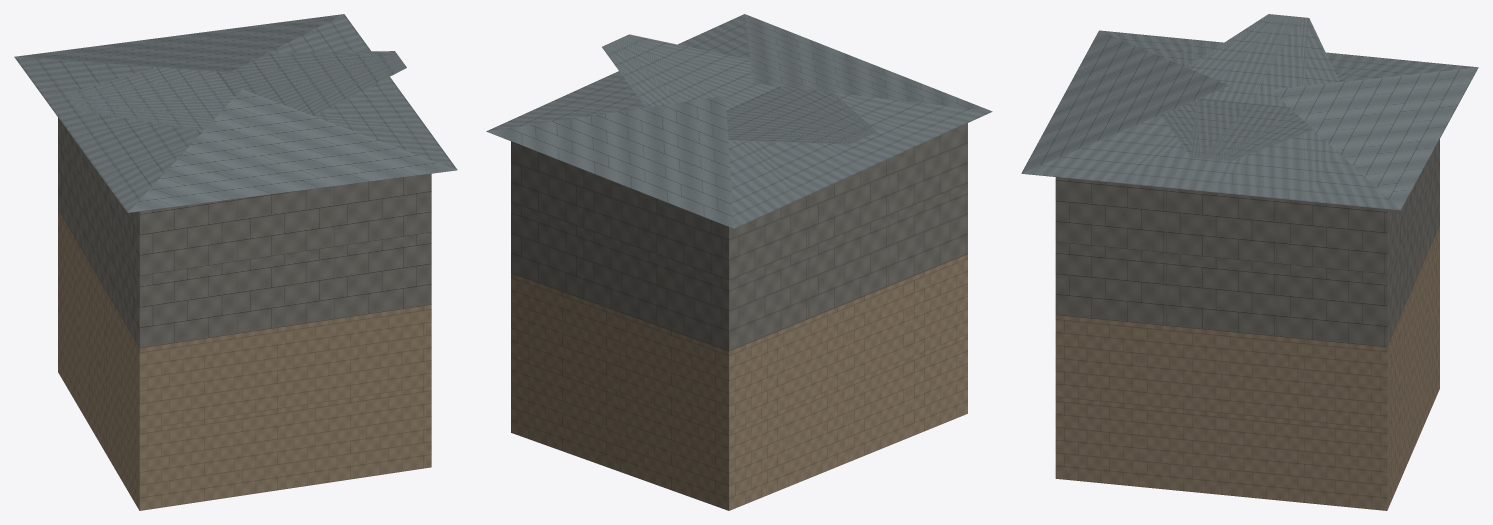
File: bld_c-13_27_473.gltf
3 renders of one model, left to right at view 1: azimuth 30°, elevation 25°; view 2: azimuth 150°, elevation 25°; view 3: azimuth 270°, elevation 25°, orthographic. The views are drawn at different scales.
Visible parts, largest first — view 1: bld_c-13_27_473; view 2: bld_c-13_27_473; view 3: bld_c-13_27_473.
Boxes of the visible parts, bbox=[...] form: bld_c-13_27_473: bbox=[14, 14, 457, 510]; bld_c-13_27_473: bbox=[486, 14, 992, 510]; bld_c-13_27_473: bbox=[1021, 14, 1478, 510].
Bounding box in the file's own units: 11.73 × 10.4 × 12.59.
3 materials, 3 textured.
